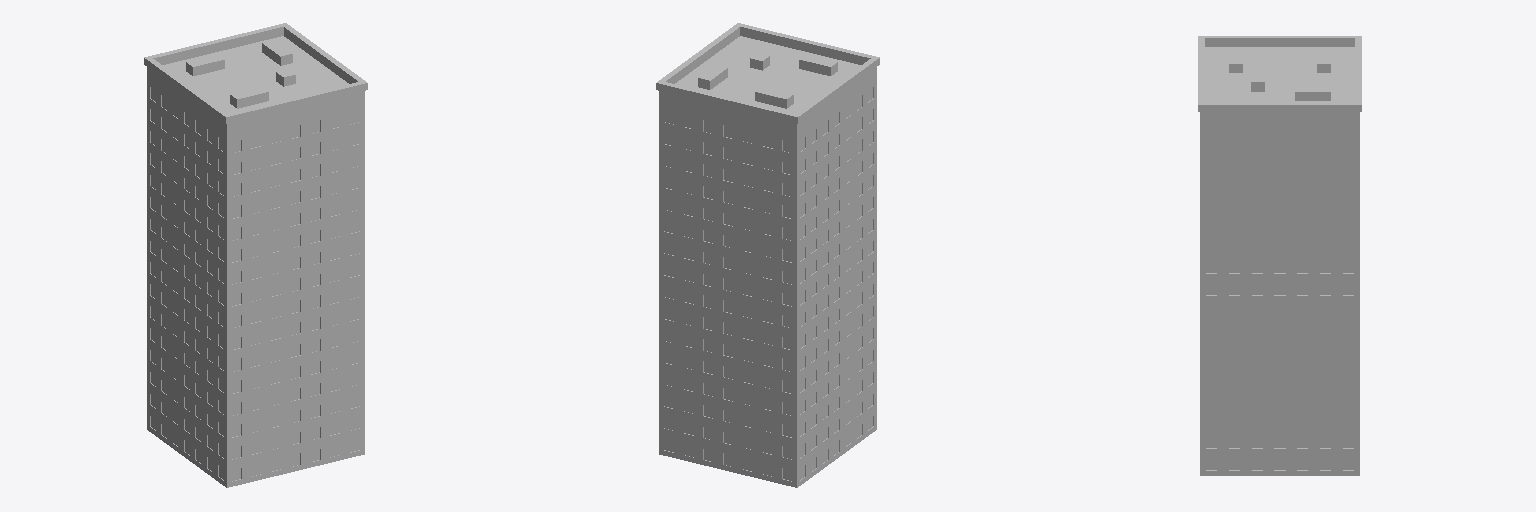
The model's file is residential_concrete_4.obj.
The picture shows the model from 3 angles: view 1: azimuth 30°, elevation 25°; view 2: azimuth 150°, elevation 25°; view 3: azimuth 270°, elevation 25°; orthographic projection.
Parts seen in each view (by area): view 1: BUILDINGS; view 2: BUILDINGS; view 3: BUILDINGS.
Boxes of the visible parts, box(x1,y1,x2,y2) form: BUILDINGS: box(144, 23, 367, 487); BUILDINGS: box(656, 23, 879, 487); BUILDINGS: box(1198, 36, 1361, 475).
Bounding box in the file's own units: 0.9158 × 2.29 × 0.9158.